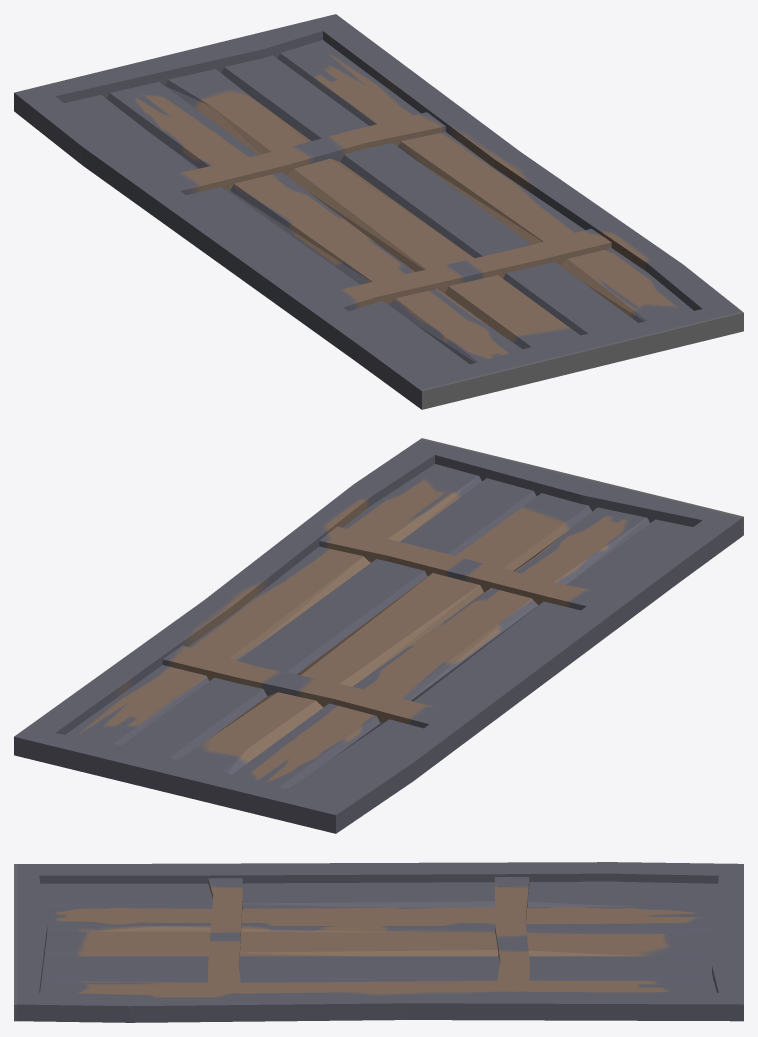
Rendered from SM_Prop_WoodPlank_02.glb.
3 renders of one model, top to bottom at view 1: azimuth 30°, elevation 25°; view 2: azimuth 150°, elevation 25°; view 3: azimuth 270°, elevation 25°, orthographic. The views are drawn at different scales.
Parts seen in each view (by area): view 1: SM_Prop_WoodPlank_02_part00; view 2: SM_Prop_WoodPlank_02_part00; view 3: SM_Prop_WoodPlank_02_part00.
Boxes of the visible parts, x1=… form: SM_Prop_WoodPlank_02_part00: x1=14, y1=14, x2=743, y2=409; SM_Prop_WoodPlank_02_part00: x1=14, y1=438, x2=743, y2=833; SM_Prop_WoodPlank_02_part00: x1=14, y1=862, x2=743, y2=1022.
Bounding box in the file's own units: 2.13 × 0.1152 × 4.56.
Materials: 1 (1 with a texture image).
